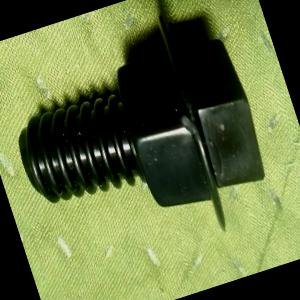parafuso: (0, 0, 284, 286)
